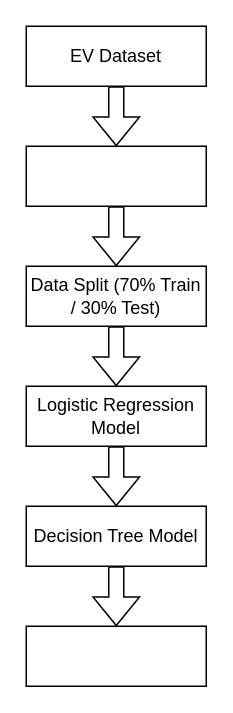
Image size: 233x713. Some labels were removed from this diagram. Each missing label, with the box of its shape:
Data Preprocessing: (25, 145, 206, 206)
Model Evaluation (Test & Score): (25, 625, 206, 686)
